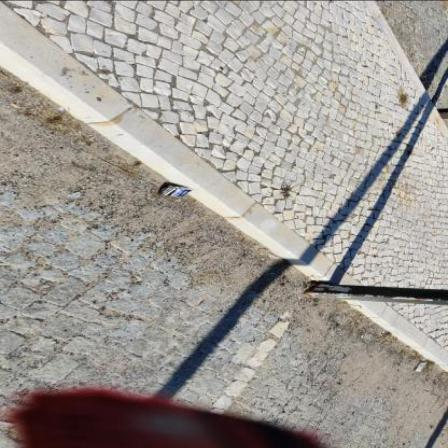Carton: (158, 187, 193, 198), (415, 364, 428, 373)
Cigarette: (13, 104, 24, 110), (177, 201, 182, 203), (377, 339, 383, 340)
